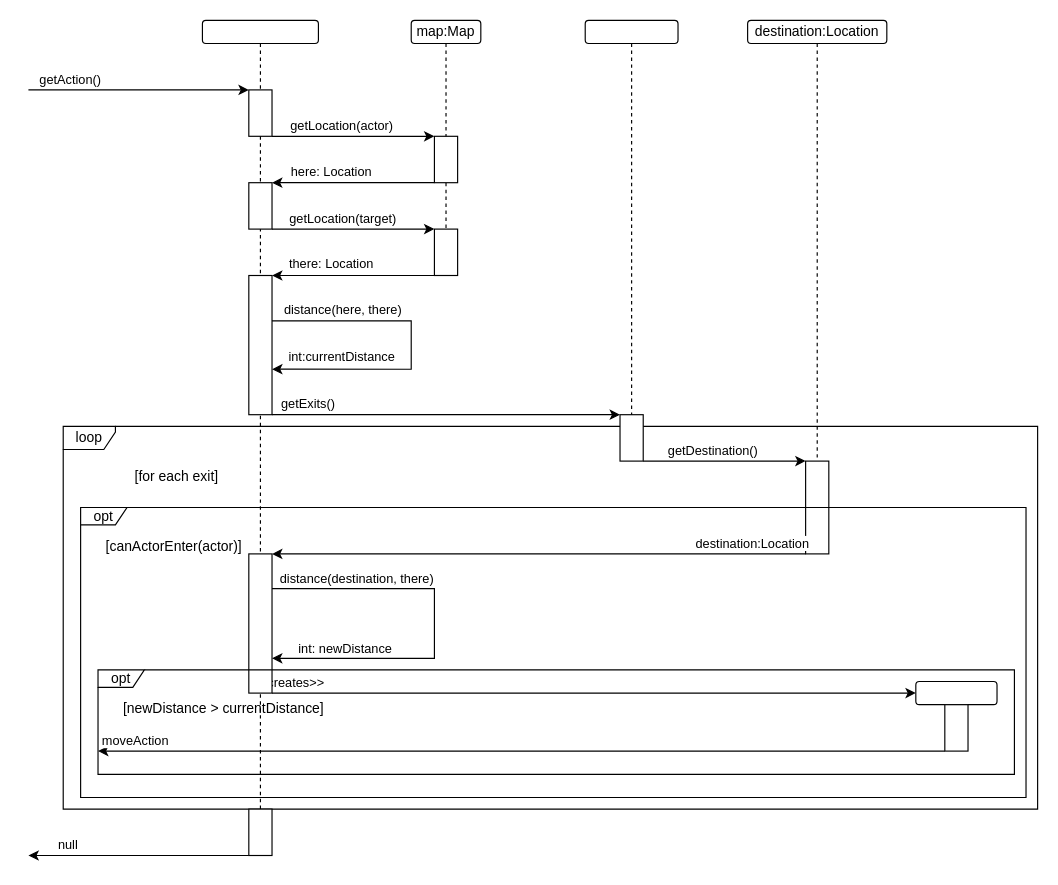
Some shapes in this 1058 by 885 pixel diagram are drawn without their labels. The shapes that lost their labels are listed below. From the top down, each one's box as (x1, y1, x2, y2) in pixels, then its label:
(201, 19, 318, 44): :FollowBehaviour
(584, 19, 678, 44): Exit
(915, 680, 997, 705): :MoveAction
